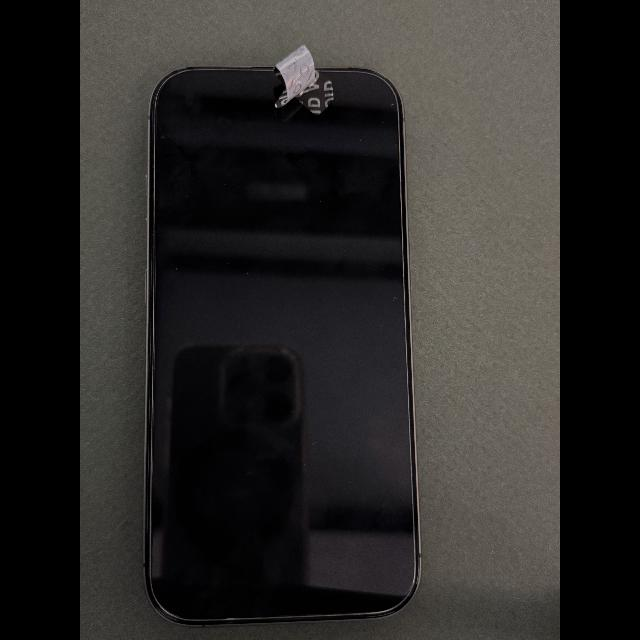phone: (143, 66, 421, 627)
sticker: (274, 44, 316, 106), (296, 69, 335, 118)
